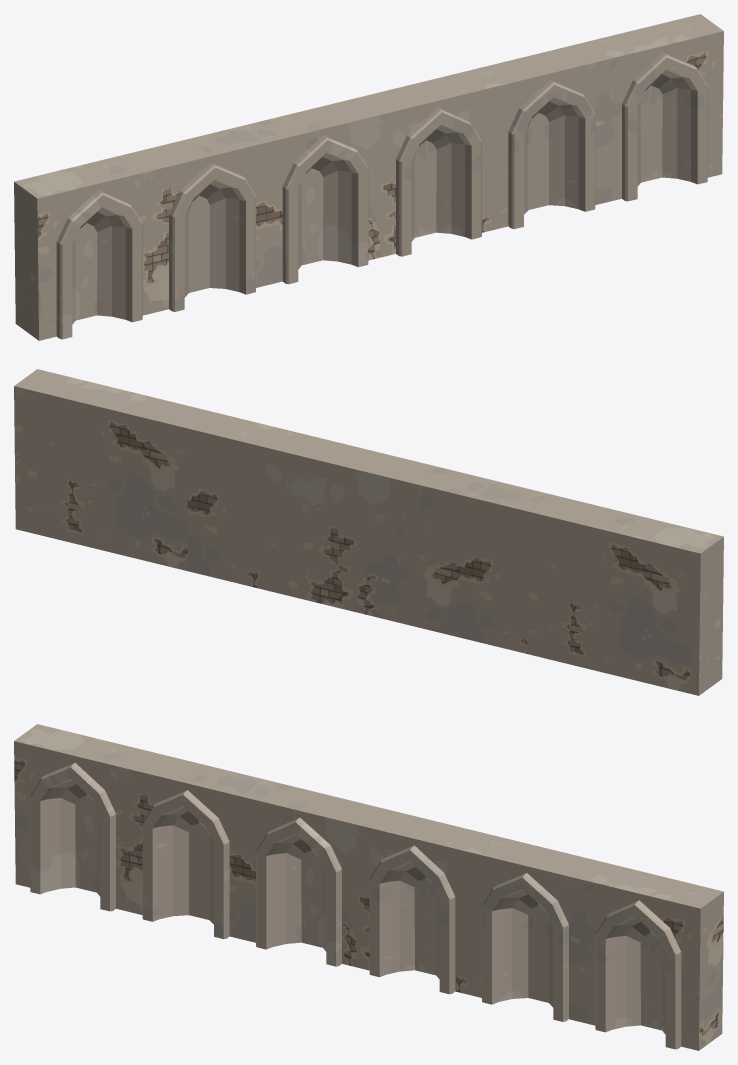
The model's file is SM_Bld_Archway_03.glb.
The picture shows the model from 3 angles, top to bottom: view 1: azimuth 30°, elevation 25°; view 2: azimuth 150°, elevation 25°; view 3: azimuth 330°, elevation 25°; orthographic projection.
Visible parts, largest first — view 1: SM_Bld_Archway_03; view 2: SM_Bld_Archway_03; view 3: SM_Bld_Archway_03.
Part boxes in pixels (bbox=[...]): SM_Bld_Archway_03: bbox=[14, 14, 723, 340]; SM_Bld_Archway_03: bbox=[14, 369, 723, 695]; SM_Bld_Archway_03: bbox=[14, 724, 723, 1050].
Bounding box in the file's own units: 21.12 × 4.19 × 1.48.
1 material, 1 textured.
